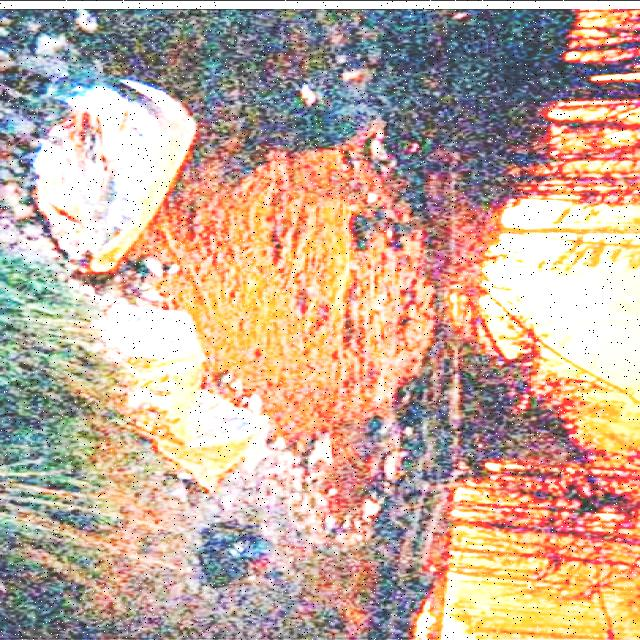api: (494, 203, 590, 317), (420, 618, 477, 638)
